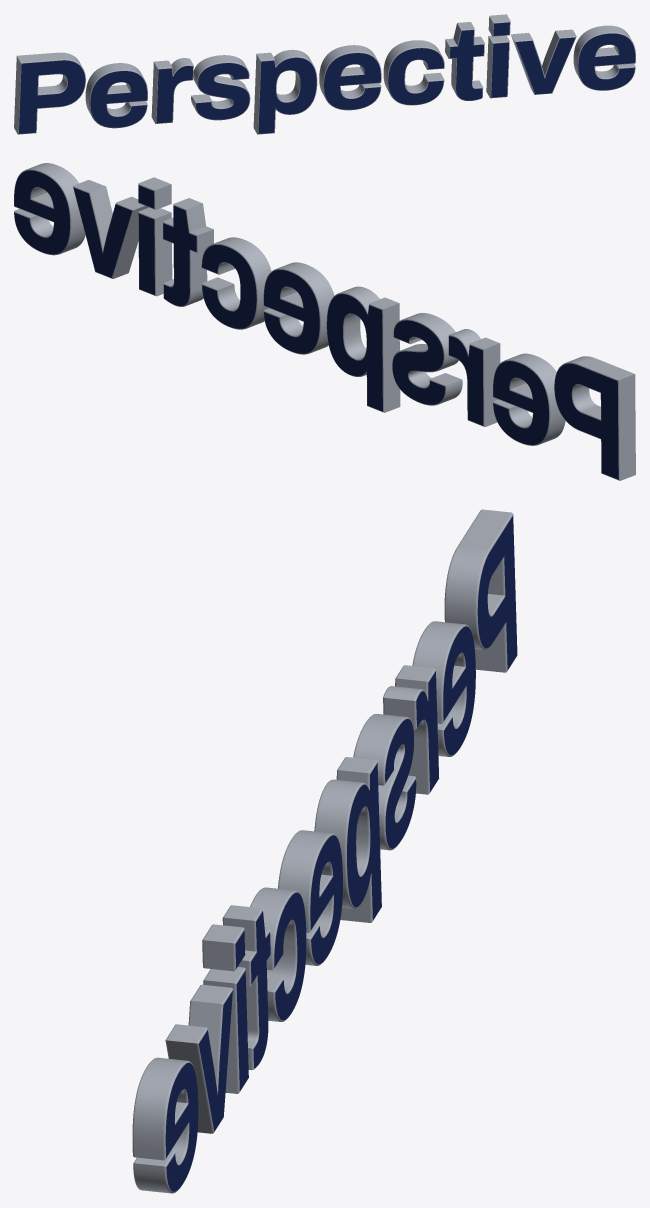
3 renders of one model, top to bottom at view 1: azimuth 30°, elevation 25°; view 2: azimuth 150°, elevation 25°; view 3: azimuth 270°, elevation 25°, orthographic. The views are drawn at different scales.
Parts seen in each view (by area): view 1: Perspective / outlined glyph 1, Perspective / outlined glyph 5, Perspective / outlined glyph 11, Perspective / outlined glyph 2, Perspective / outlined glyph 6, Perspective / outlined glyph 4, Perspective / outlined glyph 7, Perspective / outlined glyph 10, Perspective / outlined glyph 8, Perspective / outlined glyph 9 (×2), Perspective / outlined glyph 3; view 2: Perspective / outlined glyph 1, Perspective / outlined glyph 5, Perspective / outlined glyph 11, Perspective / outlined glyph 2, Perspective / outlined glyph 6, Perspective / outlined glyph 7, Perspective / outlined glyph 4, Perspective / outlined glyph 10, Perspective / outlined glyph 8, Perspective / outlined glyph 9 (×2), Perspective / outlined glyph 3; view 3: Perspective / outlined glyph 1, Perspective / outlined glyph 11, Perspective / outlined glyph 5, Perspective / outlined glyph 6, Perspective / outlined glyph 10, Perspective / outlined glyph 2, Perspective / outlined glyph 4, Perspective / outlined glyph 7, Perspective / outlined glyph 9 (×2), Perspective / outlined glyph 3, Perspective / outlined glyph 8.
Part boxes in pixels (x1=…): Perspective / outlined glyph 1: x1=14, y1=52, x2=85, y2=134; Perspective / outlined glyph 5: x1=253, y1=49, x2=317, y2=134; Perspective / outlined glyph 11: x1=573, y1=25, x2=635, y2=90; Perspective / outlined glyph 2: x1=85, y1=63, x2=147, y2=128; Perspective / outlined glyph 6: x1=319, y1=45, x2=381, y2=110; Perspective / outlined glyph 4: x1=191, y1=55, x2=250, y2=120; Perspective / outlined glyph 7: x1=383, y1=40, x2=444, y2=105; Perspective / outlined glyph 10: x1=511, y1=29, x2=576, y2=94; Perspective / outlined glyph 8: x1=445, y1=22, x2=484, y2=100; Perspective / outlined glyph 9 (×2): x1=486, y1=14, x2=510, y2=98; Perspective / outlined glyph 3: x1=151, y1=58, x2=193, y2=123; Perspective / outlined glyph 1: x1=554, y1=356, x2=635, y2=480; Perspective / outlined glyph 5: x1=326, y1=286, x2=400, y2=412; Perspective / outlined glyph 11: x1=14, y1=163, x2=85, y2=255; Perspective / outlined glyph 2: x1=493, y1=353, x2=565, y2=445; Perspective / outlined glyph 6: x1=263, y1=262, x2=334, y2=354; Perspective / outlined glyph 7: x1=201, y1=237, x2=271, y2=329; Perspective / outlined glyph 4: x1=392, y1=313, x2=462, y2=405; Perspective / outlined glyph 10: x1=73, y1=180, x2=148, y2=278; Perspective / outlined glyph 8: x1=163, y1=198, x2=213, y2=306; Perspective / outlined glyph 9 (×2): x1=138, y1=177, x2=172, y2=296; Perspective / outlined glyph 3: x1=448, y1=329, x2=500, y2=426; Perspective / outlined glyph 1: x1=444, y1=509, x2=517, y2=672; Perspective / outlined glyph 11: x1=132, y1=1057, x2=198, y2=1193; Perspective / outlined glyph 5: x1=314, y1=757, x2=381, y2=922; Perspective / outlined glyph 6: x1=278, y1=830, x2=342, y2=965; Perspective / outlined glyph 10: x1=165, y1=984, x2=232, y2=1133; Perspective / outlined glyph 2: x1=412, y1=621, x2=475, y2=756; Perspective / outlined glyph 4: x1=353, y1=714, x2=416, y2=850; Perspective / outlined glyph 7: x1=250, y1=887, x2=306, y2=1021; Perspective / outlined glyph 9 (×2): x1=202, y1=924, x2=248, y2=1093; Perspective / outlined glyph 3: x1=383, y1=665, x2=439, y2=794; Perspective / outlined glyph 8: x1=222, y1=905, x2=270, y2=1070.
Bounding box in the file's own units: 10.08 × 1.78 × 3.15.
